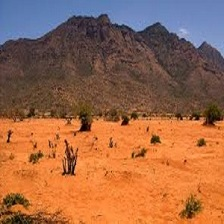sandy_soil: (13, 94, 210, 219)
